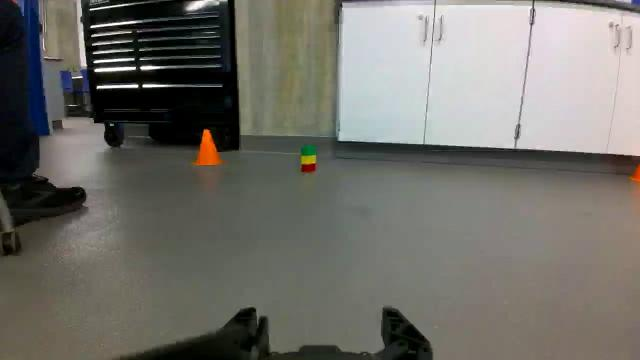lego: (294, 136, 321, 179)
